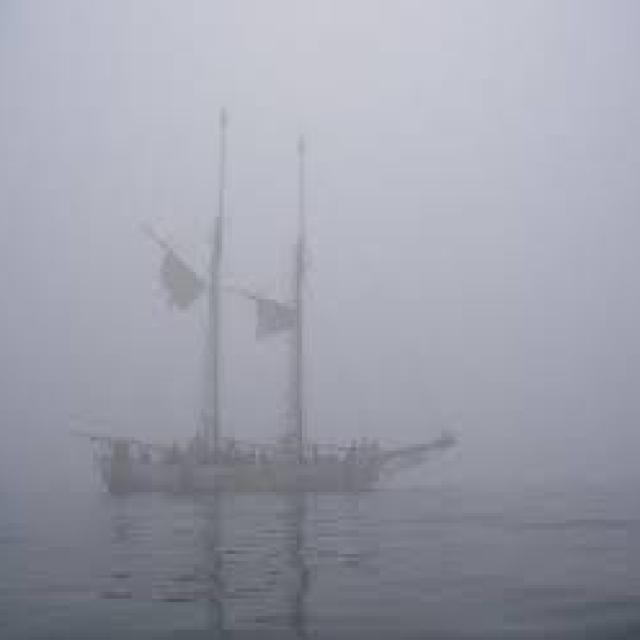fishing boat: (80, 111, 448, 527)
